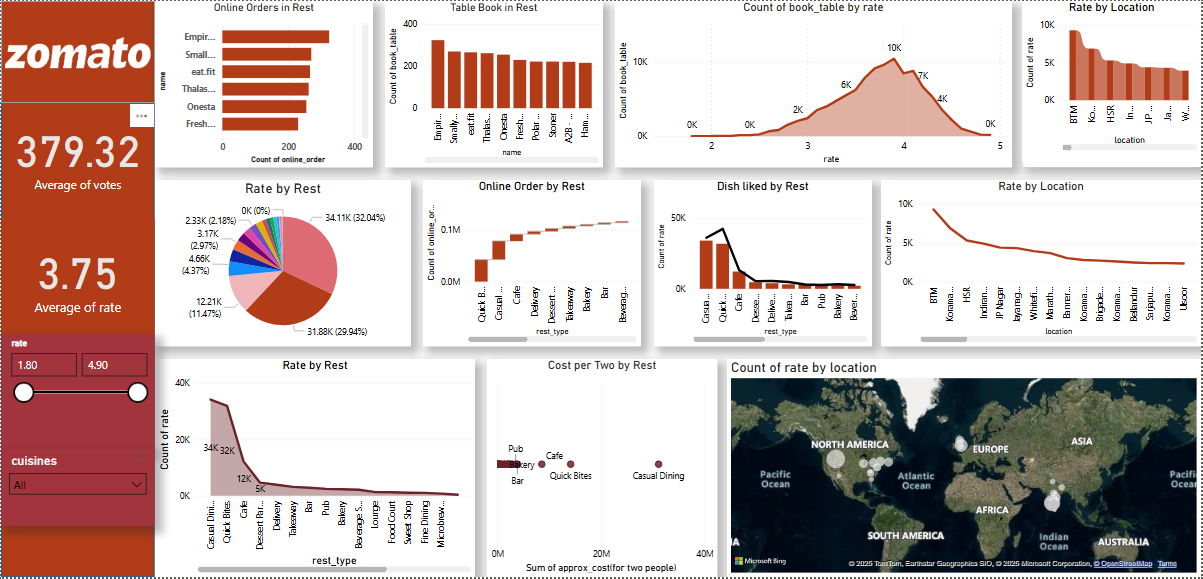

The page's visual inventory and layout, read from the dashboard file:
{"tool":"powerbi","page":{"name":"Page 1","canvas":[1500,720],"ordinal":0},"visuals":[{"type":"shape","box":[0,0,192,720],"z":0},{"type":"shape","box":[192,0,272,208],"z":1000},{"type":"shape","box":[480,0,272,208],"z":2000},{"type":"shape","box":[768,0,496,208],"z":3000},{"type":"shape","box":[1276,0,224,208],"z":4000},{"type":"shape","box":[192,224,320,208],"z":5000},{"type":"shape","box":[528,224,272,208],"z":6000},{"type":"shape","box":[816,224,272,208],"z":7000},{"type":"shape","box":[1100,224,400,208],"z":8000},{"type":"shape","box":[192,448,400,272],"z":9000},{"type":"shape","box":[608,448,288,272],"z":10000},{"type":"shape","box":[908,448,592,272],"z":11000},{"type":"barChart","title":"Online Orders in Rest","fields":{"Category":["zomato.name"],"Y":["CountNonNull(zomato.online_order)"]},"box":[192,0,272,208],"z":12000},{"type":"columnChart","title":"Table Book in Rest","fields":{"Y":["CountNonNull(zomato.book_table)"],"Category":["zomato.name"]},"box":[480,0,272,208],"z":13000},{"type":"lineChart","fields":{"Category":["zomato.rate"],"Y":["CountNonNull(zomato.book_table)"]},"box":[768,0,496,208],"z":14000},{"type":"map","fields":{"Category":["zomato.location"],"Size":["CountNonNull(zomato.rate)"]},"box":[908,448,592,272],"z":15000},{"type":"lineChart","title":"Rate by Location","fields":{"Category":["zomato.location"],"Y":["CountNonNull(zomato.rate)"]},"box":[1100,224,400,208],"z":16000},{"type":"pieChart","title":"Rate by Rest","fields":{"Category":["zomato.rest_type"],"Y":["CountNonNull(zomato.rate)"]},"box":[192,224,320,208],"z":17000},{"type":"stackedAreaChart","title":"Rate by Rest","fields":{"Y":["CountNonNull(zomato.rate)"],"Category":["zomato.rest_type"]},"box":[192,448,400,272],"z":18000},{"type":"waterfallChart","title":"Online Order by Rest","fields":{"Category":["zomato.rest_type"],"Y":["CountNonNull(zomato.online_order)"]},"box":[528,224,272,208],"z":19000},{"type":"lineStackedColumnComboChart","title":"Dish liked by Rest","fields":{"Category":["zomato.rest_type"],"Y":["CountNonNull(zomato.rate)"],"Y2":["CountNonNull(zomato.dish_liked)"]},"box":[816,224,272,208],"z":20000},{"type":"scatterChart","title":"Cost per Two by Rest","fields":{"Category":["zomato.rest_type"],"X":["Sum(zomato.approx_cost(for two people))"]},"box":[608,448,288,272],"z":21000},{"type":"ribbonChart","title":"Rate by Location","fields":{"Category":["zomato.location"],"Y":["CountNonNull(zomato.rate)"]},"box":[1276,0,224,192],"z":22000},{"type":"image","box":[0,0,192,128],"z":22001},{"type":"card","fields":{"Values":["Avg(zomato.votes)"]},"box":[0,128,192,128],"z":22002},{"type":"card","fields":{"Values":["Avg(zomato.rate)"]},"box":[0,272,192,144],"z":22003},{"type":"slicer","fields":{"Values":["zomato.rate"]},"box":[0,416,192,144],"z":22004},{"type":"slicer","fields":{"Values":["zomato.cuisines"]},"box":[0,560,192,96],"z":22005}]}

Visuals, with their boxes in screenshot pixels (x1, y1, x2, y2), scaled from the page's 1500x720 canvas onto the 1203x579 screenshot:
shape: 0 0 154 578
shape: 154 0 372 167
shape: 385 0 603 167
shape: 616 0 1014 167
shape: 1023 0 1202 167
shape: 154 180 411 347
shape: 423 180 642 347
shape: 654 180 873 347
shape: 882 180 1202 347
shape: 154 360 475 578
shape: 488 360 719 578
shape: 728 360 1202 578
"Online Orders in Rest" barChart: 154 0 372 167
"Table Book in Rest" columnChart: 385 0 603 167
lineChart - zomato.rate x CountNonNull(zomato.book_table): 616 0 1014 167
map - zomato.location x CountNonNull(zomato.rate): 728 360 1202 578
"Rate by Location" lineChart: 882 180 1202 347
"Rate by Rest" pieChart: 154 180 411 347
"Rate by Rest" stackedAreaChart: 154 360 475 578
"Online Order by Rest" waterfallChart: 423 180 642 347
"Dish liked by Rest" lineStackedColumnComboChart: 654 180 873 347
"Cost per Two by Rest" scatterChart: 488 360 719 578
"Rate by Location" ribbonChart: 1023 0 1202 154
image: 0 0 154 103
card - Avg(zomato.votes): 0 103 154 206
card - Avg(zomato.rate): 0 219 154 335
slicer - zomato.rate: 0 335 154 450
slicer - zomato.cuisines: 0 450 154 528
